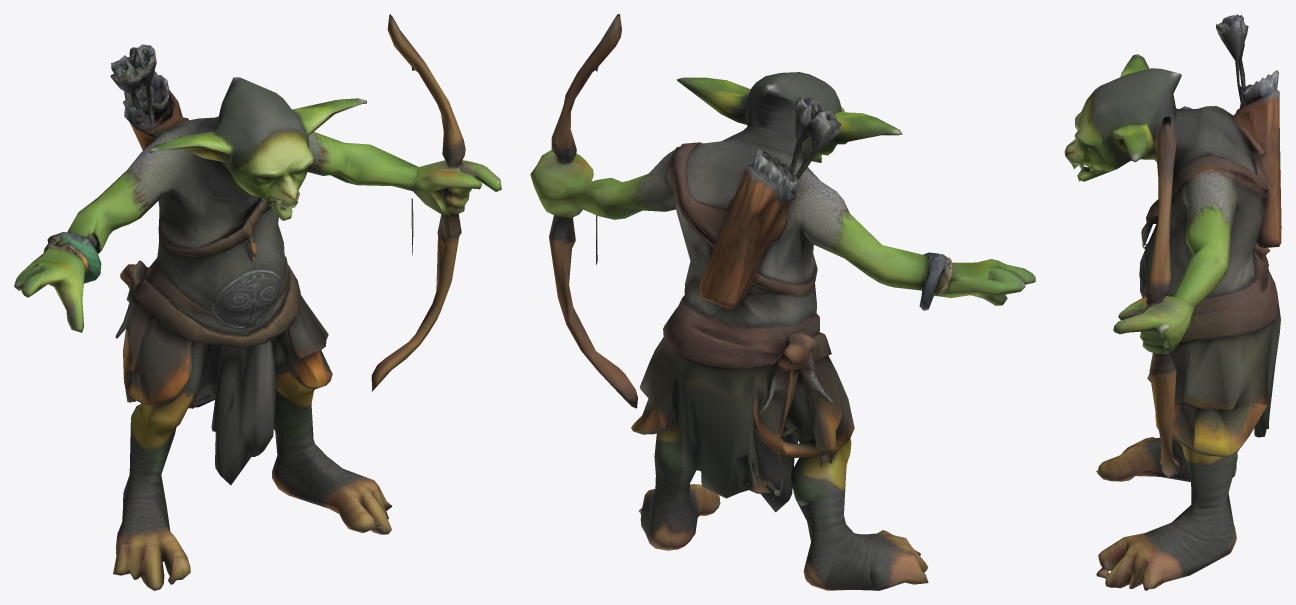
The model's file is goblin_arch.glb.
3 views of the same model, side by side, from view 1: azimuth 30°, elevation 25°; view 2: azimuth 150°, elevation 25°; view 3: azimuth 270°, elevation 25° (orthographic). The views are drawn at different scales.
Size of the model in its own units: 2 by 2 by 0.8047.
Materials: 1 (1 with a texture image).
